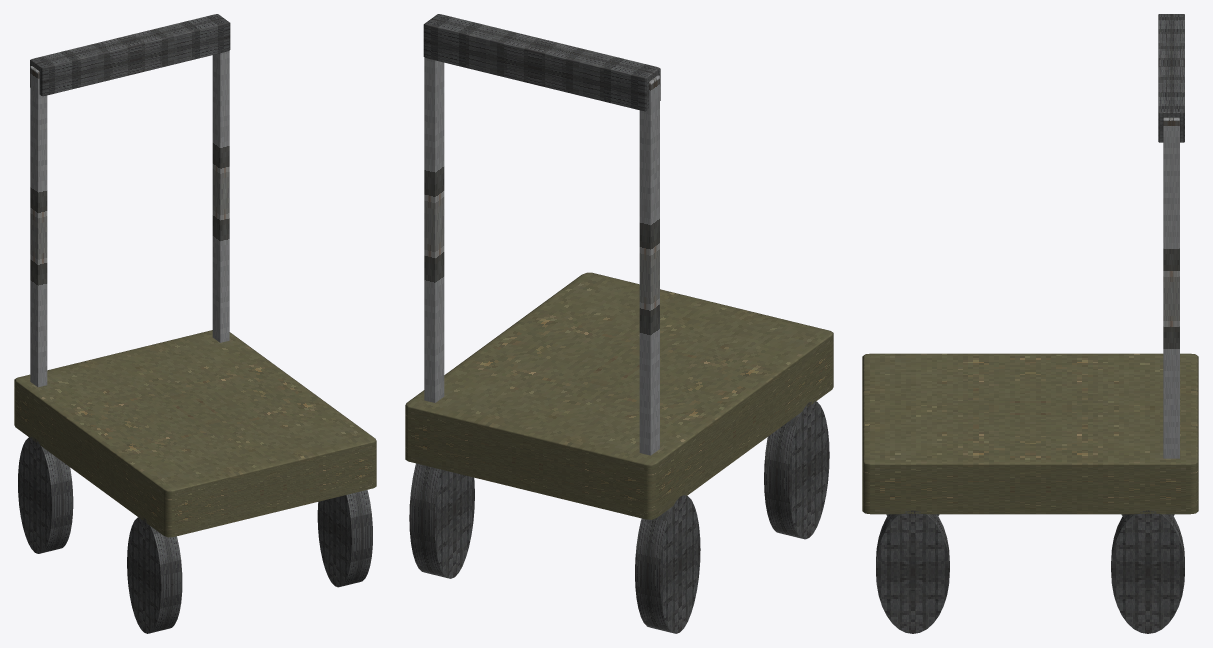
The model's file is cylinder-cart.glb.
3 renders of one model, left to right at view 1: azimuth 30°, elevation 25°; view 2: azimuth 150°, elevation 25°; view 3: azimuth 270°, elevation 25°, orthographic. The views are drawn at different scales.
Visible parts, largest first — view 1: deck, caster (×3), upright (×2), handle; view 2: deck, caster (×3), upright (×2), handle; view 3: deck, caster (×2), upright, handle.
Part boxes in pixels (<box>): deck: <box>14,330,376,537</box>; caster (×3): <box>18,436,372,633</box>; upright (×2): <box>30,50,229,387</box>; handle: <box>30,14,230,96</box>; deck: <box>405,272,833,519</box>; caster (×3): <box>409,401,829,633</box>; upright (×2): <box>424,57,659,455</box>; handle: <box>423,14,660,111</box>; deck: <box>862,353,1198,514</box>; caster (×2): <box>876,510,1184,633</box>; upright: <box>1163,117,1179,458</box>; handle: <box>1158,14,1184,142</box>.
Size of the model in its own units: 0.51 by 1.1 by 0.65.
Materials: 3 (3 with a texture image).
